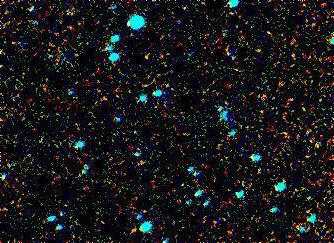star: (208, 99, 238, 129)
